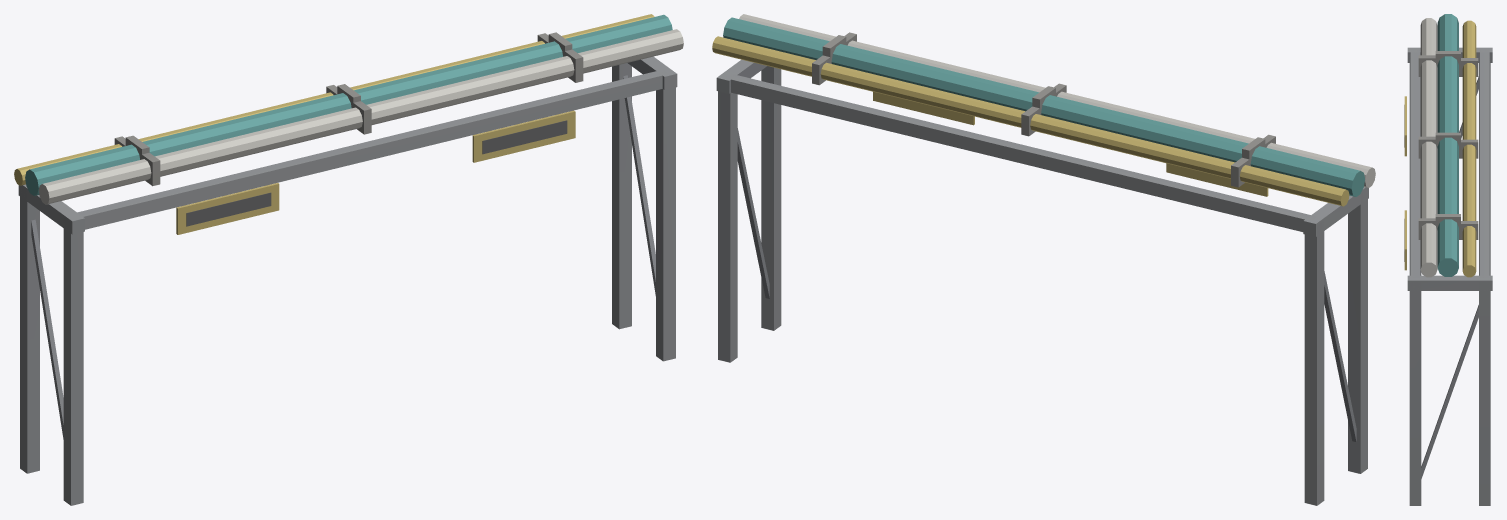
File: fc_pipebridge.glb
3 renders of one model, left to right at view 1: azimuth 30°, elevation 25°; view 2: azimuth 150°, elevation 25°; view 3: azimuth 270°, elevation 25°, orthographic. The views are drawn at different scales.
Visible parts, largest first — view 1: fc_pipebridge; view 2: fc_pipebridge; view 3: fc_pipebridge.
Part boxes in pixels (x1,y1,x2,y2): fc_pipebridge: (14, 14, 683, 505); fc_pipebridge: (712, 14, 1375, 505); fc_pipebridge: (1404, 14, 1492, 505).
Size of the model in its own units: 15 by 7.31 by 2.29.
